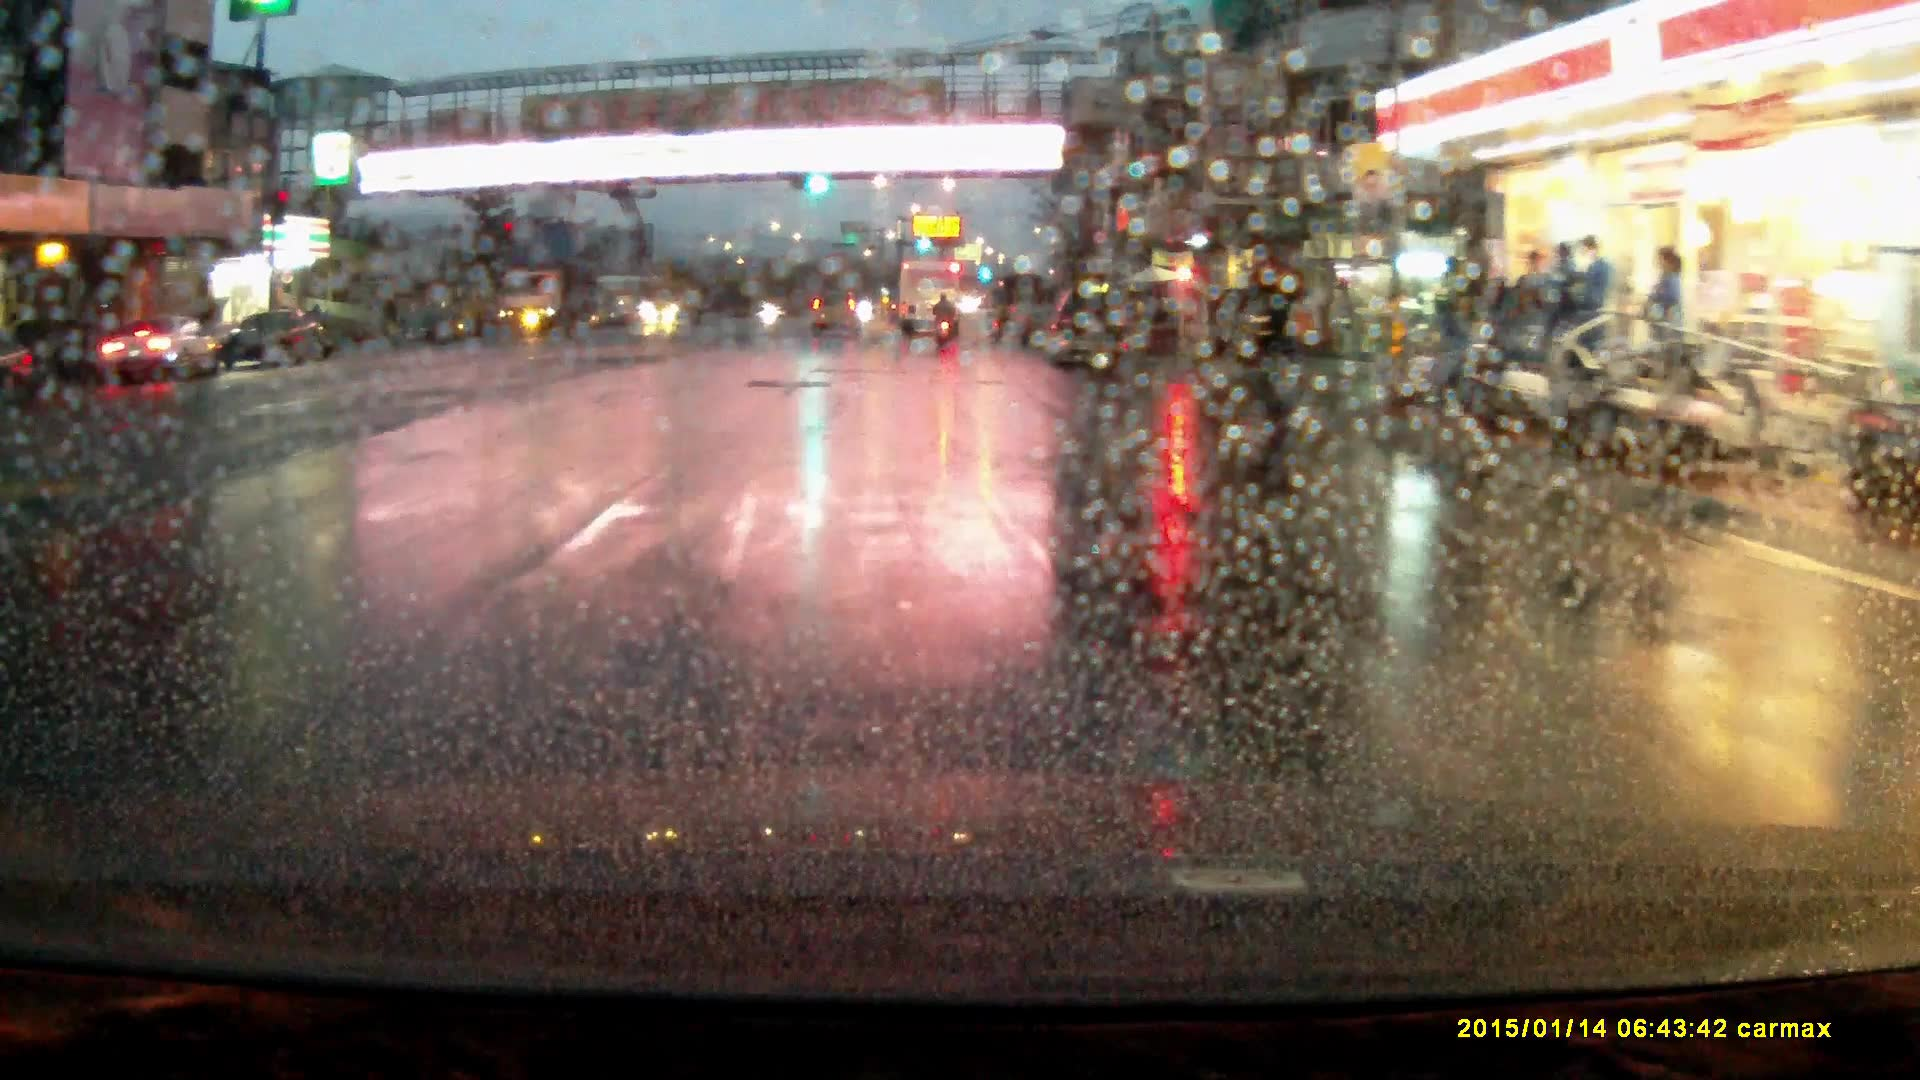rider: (933, 290, 959, 349)
vehicle: (497, 259, 599, 339), (100, 316, 215, 386), (1045, 289, 1131, 373), (219, 309, 334, 370), (1213, 289, 1299, 357), (898, 258, 960, 339), (643, 283, 708, 328), (809, 294, 863, 340)
